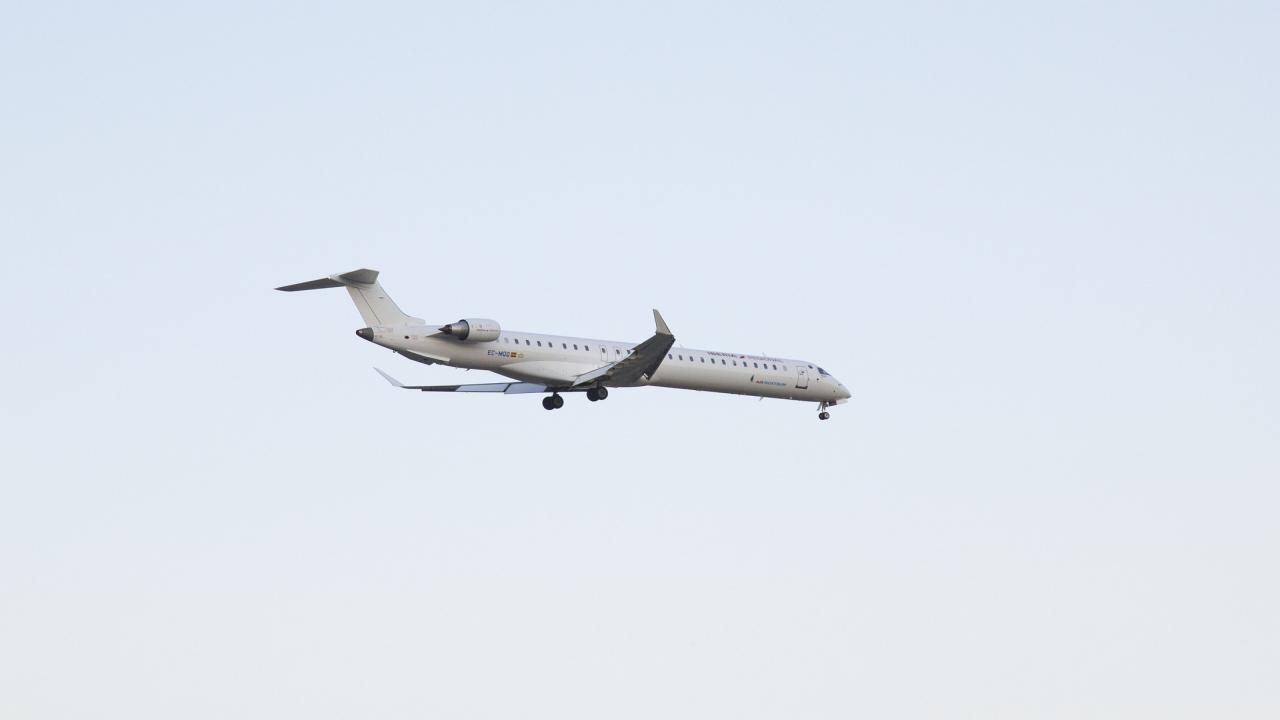Airplane: (263, 248, 862, 429)
